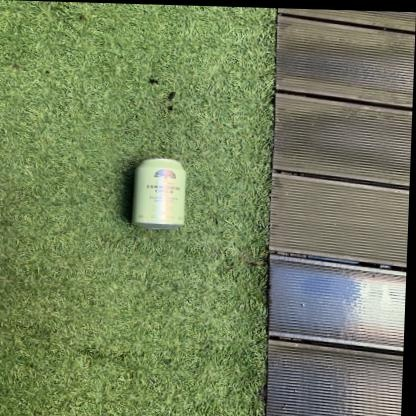trash: (132, 158, 185, 226)
